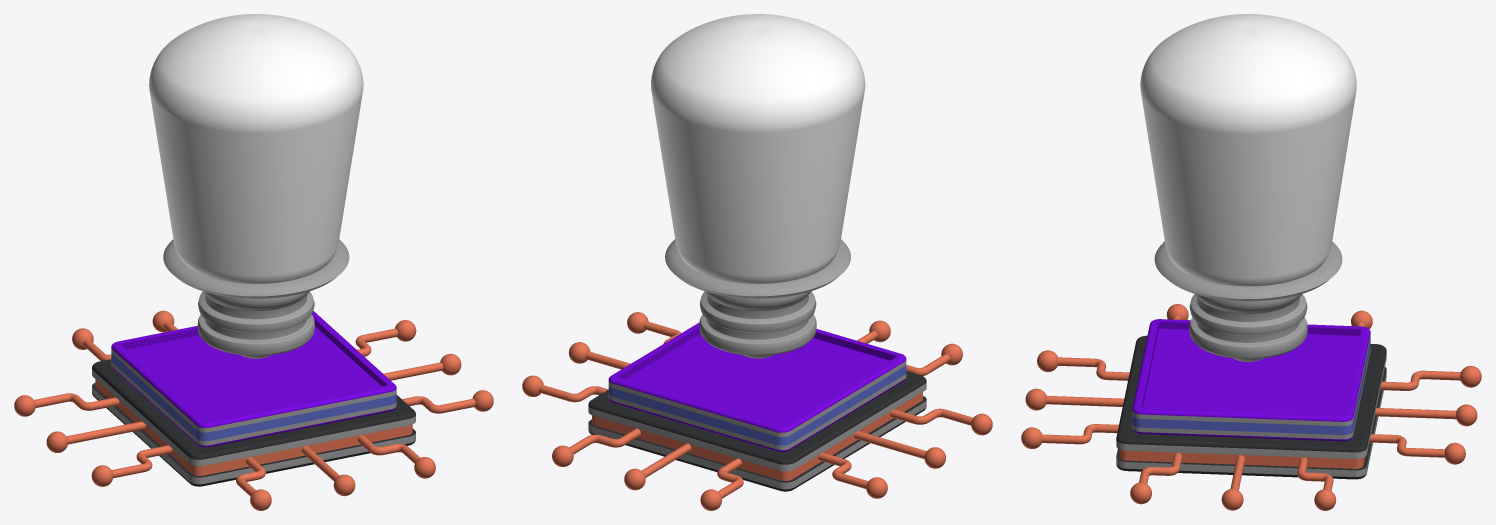
Rendered from -deep-learning-3d-animated-model-833089813904.glb.
3 views of the same model, side by side, from view 1: azimuth 30°, elevation 25°; view 2: azimuth 150°, elevation 25°; view 3: azimuth 270°, elevation 25° (orthographic).
Parts seen in each view (by area): view 1: Cylinder.001, Cube.013, Cube, NurbsPath, Cylinder; view 2: Cylinder.001, Cube.013, Cube, Cylinder, NurbsPath; view 3: Cylinder.001, Cube.013, Cube, NurbsPath, Cylinder.
Boxes of the visible parts, x1=… form: Cylinder.001: x1=149, y1=14, x2=363, y2=283; Cube.013: x1=111, y1=311, x2=396, y2=447; Cube: x1=92, y1=359, x2=415, y2=486; NurbsPath: x1=14, y1=310, x2=493, y2=510; Cylinder: x1=163, y1=239, x2=349, y2=358; Cylinder.001: x1=651, y1=14, x2=865, y2=283; Cube.013: x1=608, y1=322, x2=906, y2=451; Cube: x1=588, y1=371, x2=926, y2=491; Cylinder: x1=665, y1=239, x2=850, y2=358; NurbsPath: x1=522, y1=312, x2=992, y2=510; Cylinder.001: x1=1140, y1=14, x2=1356, y2=286; Cube.013: x1=1132, y1=319, x2=1370, y2=441; Cube: x1=1116, y1=335, x2=1386, y2=479; NurbsPath: x1=1021, y1=304, x2=1481, y2=510; Cylinder: x1=1154, y1=241, x2=1342, y2=361.
Bounding box in the file's own units: 0.4937 × 0.4678 × 0.4942.
